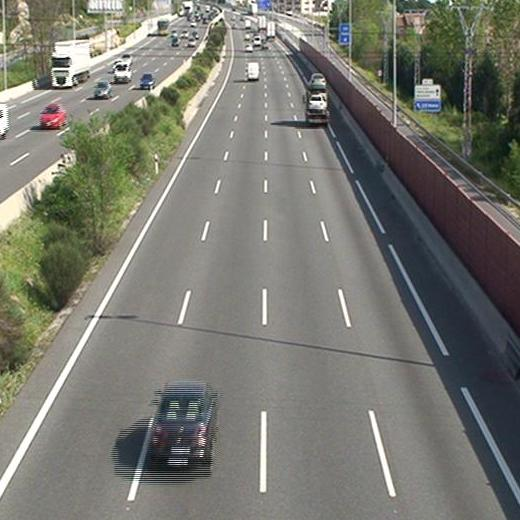car: (151, 382, 216, 465), (308, 93, 326, 111), (309, 74, 326, 89)
small-truck: (305, 84, 328, 125)
van: (246, 62, 259, 81)
